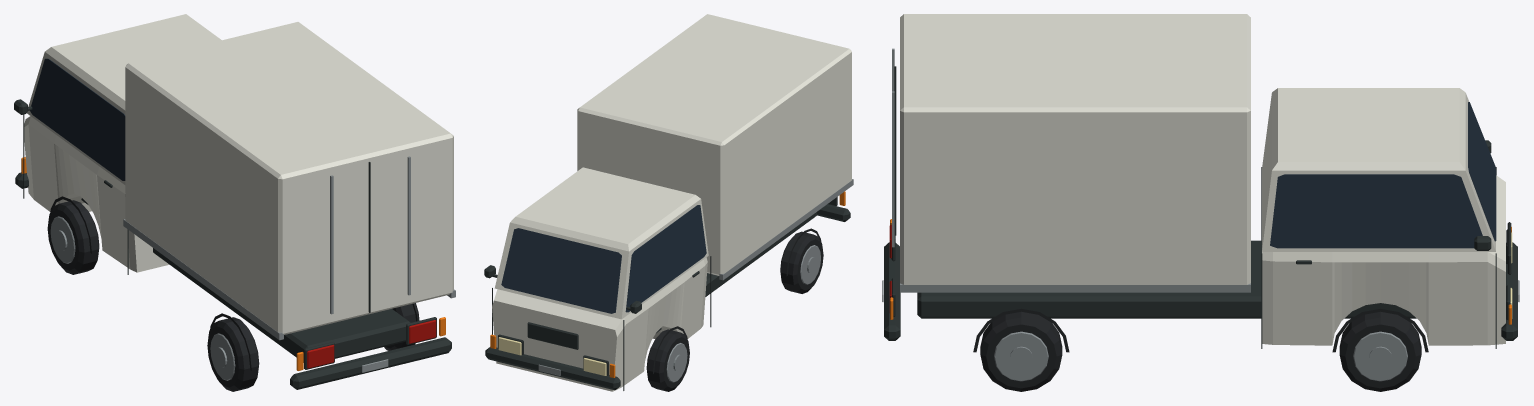
Rendered from 09_DeliveryVan.fbx.
3 views of the same model, side by side, from view 1: azimuth 30°, elevation 25°; view 2: azimuth 150°, elevation 25°; view 3: azimuth 270°, elevation 25° (orthographic). The views are drawn at different scales.
Visible parts, largest first — view 1: Box body with edge chamfer, Continuous body with open wheel arches.009, Raked cabin with chamfered roof.008, Side glass -1 pane 0.007, Truck chassis, Moulded bumper.017, WheelFL_ShapedSidewall.008, WheelRL_ShapedSidewall.008, Cargo lower frame, WheelFL_Rim.008, WheelRL_Rim.008, Cargo door locking bar.001 (+5 smaller); view 2: Box body with edge chamfer, Raked cabin with chamfered roof.008, Continuous body with open wheel arches.009, Framed opaque windshield.008, Side glass -1 pane 0.007, Moulded bumper.016, WheelFL_ShapedSidewall.008, WheelRL_ShapedSidewall.008, Cargo lower frame, Inset radiator grille.008, Truck chassis, WheelRL_Rim.008 (+4 smaller); view 3: Box body with edge chamfer, Continuous body with open wheel arches.009, Raked cabin with chamfered roof.008, Side glass 1 pane 0.007, Truck chassis, WheelFR_ShapedSidewall.008, WheelRR_ShapedSidewall.008, Cargo lower frame.001, Framed opaque windshield.008, WheelFR_Rim.008, WheelRR_Rim.008, Moulded bumper.017 (+1 smaller).
Part boxes in pixels (x1=…): Box body with edge chamfer: x1=125, y1=22, x2=453, y2=334; Continuous body with open wheel arches.009: x1=24, y1=116, x2=169, y2=272; Raked cabin with chamfered roof.008: x1=27, y1=14, x2=221, y2=184; Side glass -1 pane 0.007: x1=30, y1=58, x2=125, y2=180; Truck chassis: x1=81, y1=198, x2=410, y2=362; Moulded bumper.017: x1=290, y1=337, x2=451, y2=389; WheelFL_ShapedSidewall.008: x1=47, y1=200, x2=99, y2=274; WheelRL_ShapedSidewall.008: x1=207, y1=317, x2=259, y2=391; Cargo lower frame: x1=123, y1=219, x2=283, y2=340; WheelFL_Rim.008: x1=50, y1=216, x2=75, y2=263; WheelRL_Rim.008: x1=210, y1=333, x2=235, y2=380; Cargo door locking bar.001: x1=407, y1=156, x2=410, y2=295; Box body with edge chamfer: x1=577, y1=14, x2=851, y2=275; Raked cabin with chamfered roof.008: x1=494, y1=167, x2=708, y2=319; Continuous body with open wheel arches.009: x1=492, y1=257, x2=707, y2=391; Framed opaque windshield.008: x1=501, y1=228, x2=621, y2=313; Side glass -1 pane 0.007: x1=625, y1=205, x2=706, y2=312; Moulded bumper.016: x1=485, y1=347, x2=620, y2=390; WheelFL_ShapedSidewall.008: x1=646, y1=329, x2=689, y2=391; WheelRL_ShapedSidewall.008: x1=780, y1=231, x2=823, y2=293; Cargo lower frame: x1=719, y1=179, x2=853, y2=280; Inset radiator grille.008: x1=527, y1=322, x2=578, y2=349; Truck chassis: x1=656, y1=212, x2=816, y2=333; WheelRL_Rim.008: x1=800, y1=245, x2=820, y2=284; Box body with edge chamfer: x1=900, y1=14, x2=1250, y2=284; Continuous body with open wheel arches.009: x1=1262, y1=175, x2=1505, y2=345; Raked cabin with chamfered roof.008: x1=1262, y1=88, x2=1495, y2=251; Side glass 1 pane 0.007: x1=1270, y1=174, x2=1482, y2=248; Truck chassis: x1=917, y1=240, x2=1416, y2=318; WheelFR_ShapedSidewall.008: x1=1339, y1=311, x2=1421, y2=391; WheelRR_ShapedSidewall.008: x1=980, y1=311, x2=1062, y2=391; Cargo lower frame.001: x1=900, y1=283, x2=1250, y2=292; Framed opaque windshield.008: x1=1468, y1=102, x2=1496, y2=241; WheelFR_Rim.008: x1=1353, y1=331, x2=1407, y2=381; WheelRR_Rim.008: x1=994, y1=331, x2=1048, y2=381; Moulded bumper.017: x1=884, y1=242, x2=900, y2=340.
Bounding box in the file's own units: 218 × 282 × 575.
